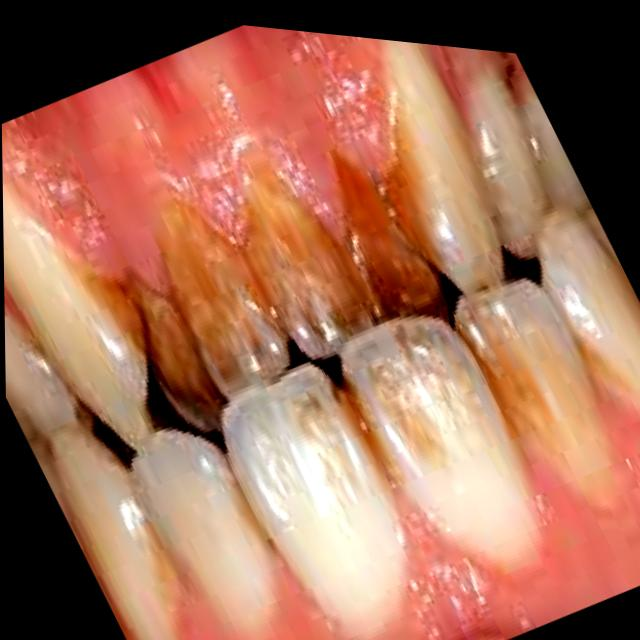tooth-discoloration: (224, 366, 409, 640), (343, 318, 540, 567), (459, 281, 617, 506), (161, 203, 291, 399), (249, 176, 369, 360), (339, 162, 451, 321), (138, 283, 225, 433)
